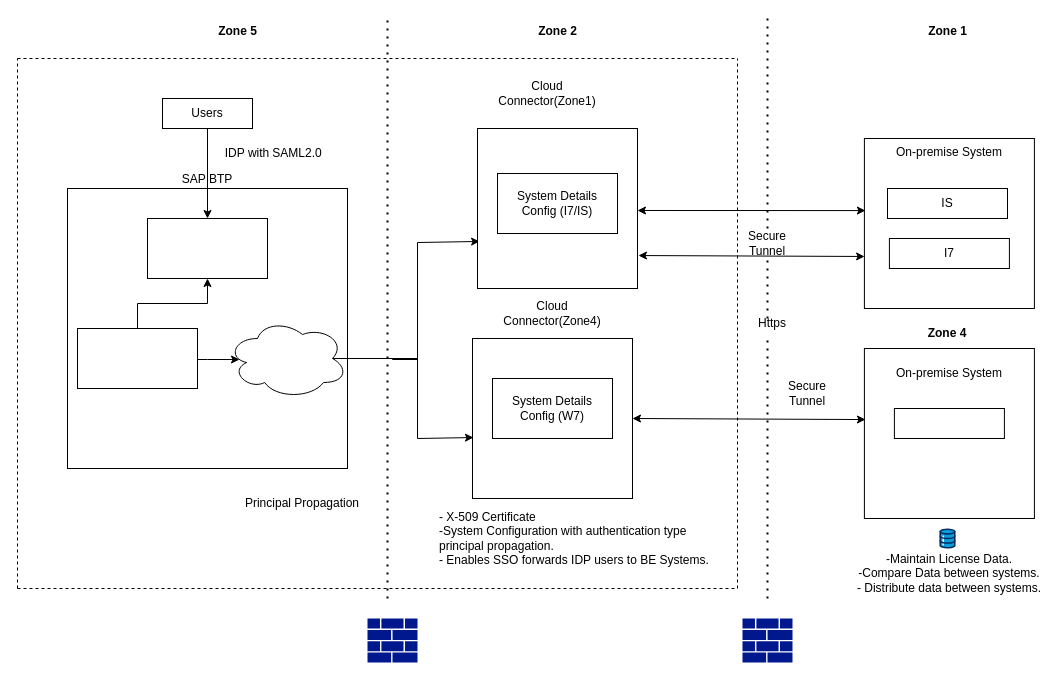
This 1062x679 diagram has some shape labels left out. The centre of each missing label's shape, as x and y in pixels:
Connectivity: point 287,358
Destinations: point 137,358
W7: point 948,423
ZLMT_Licenses Application: point 207,248
